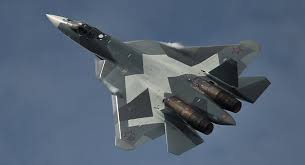fighter: (42, 10, 274, 158)
